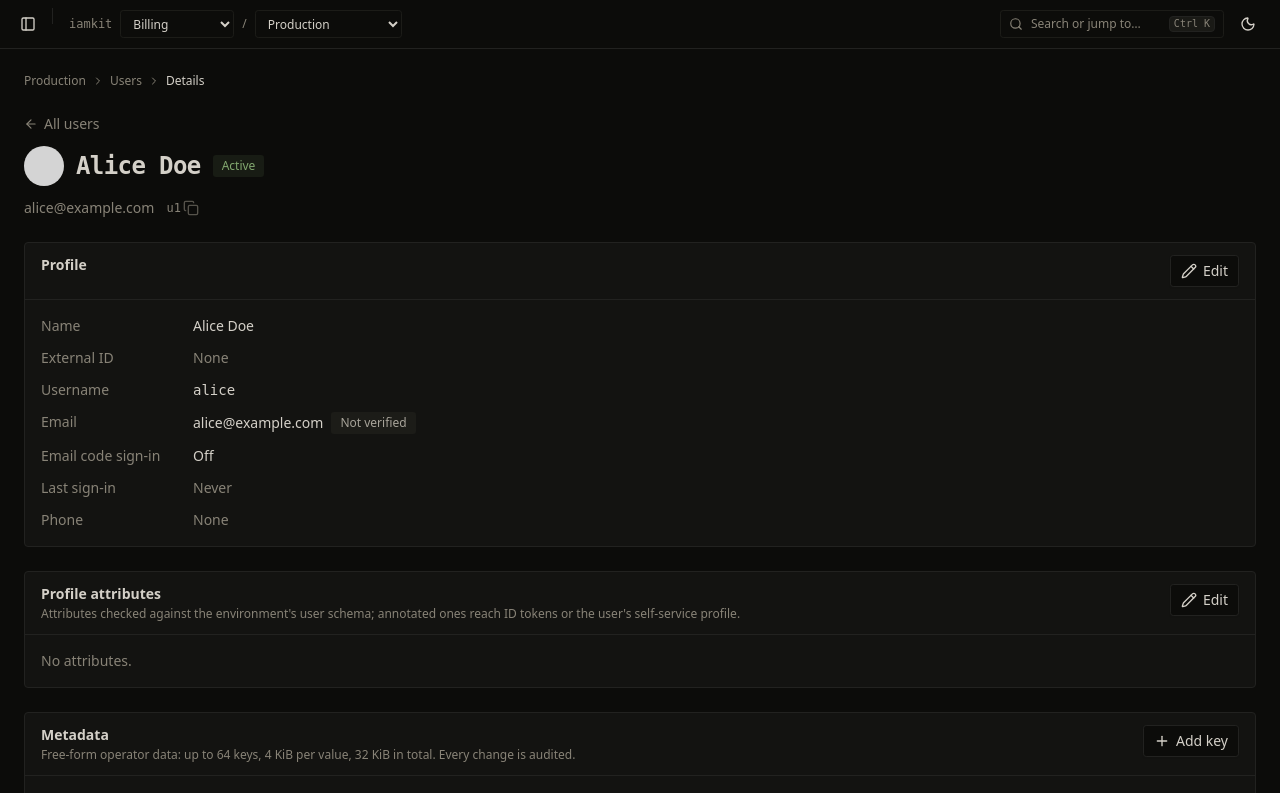
Test case: shows and edits the username
Expected: the heading "Alice Doe" is shown, top-left (76, 150), bottom-right (201, 182)
Expected: the text "alice" is shown, top-left (193, 382), bottom-right (235, 398)
Click the 1st button "Edit": (1204, 271) top-left (1170, 255), bottom-right (1239, 287)
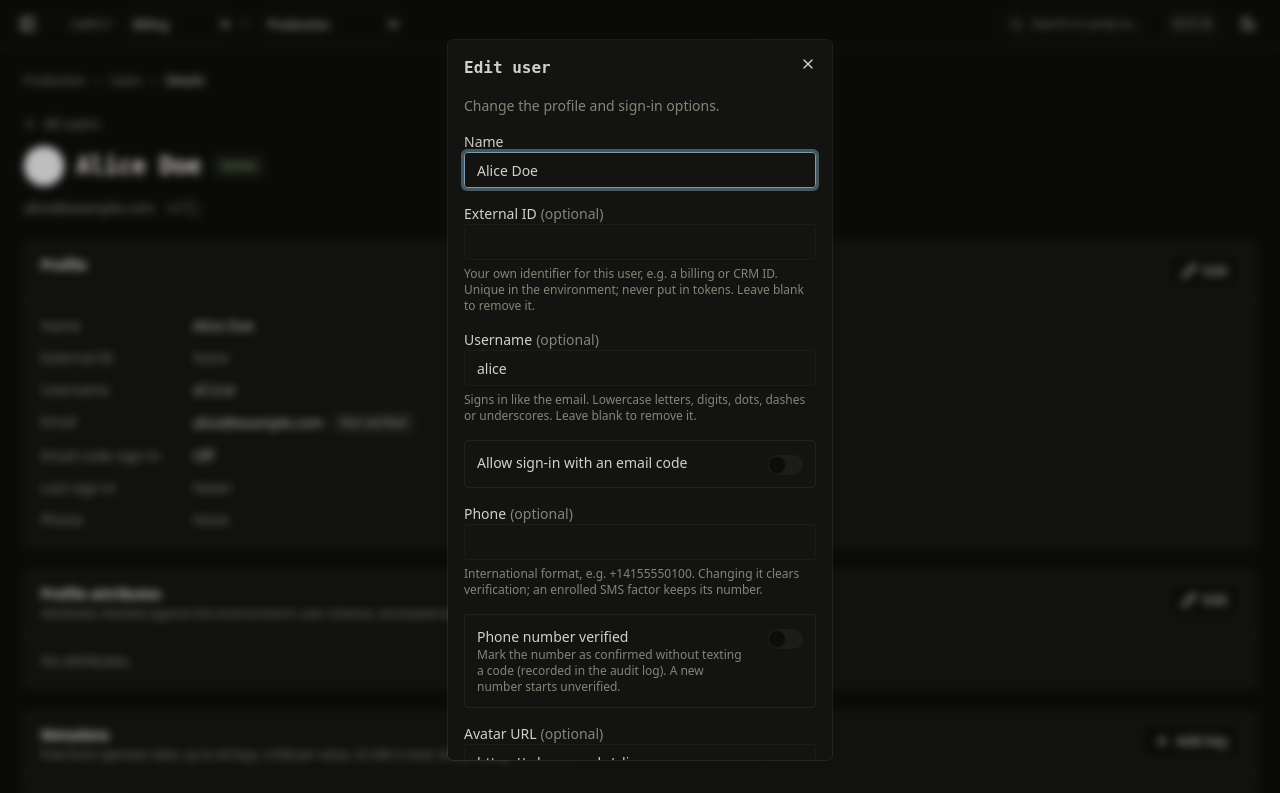
Replace the text in the field labelled "Username(optional)" with "alice.doe": (640, 368) top-left (464, 350), bottom-right (816, 386)
(page scrolled)
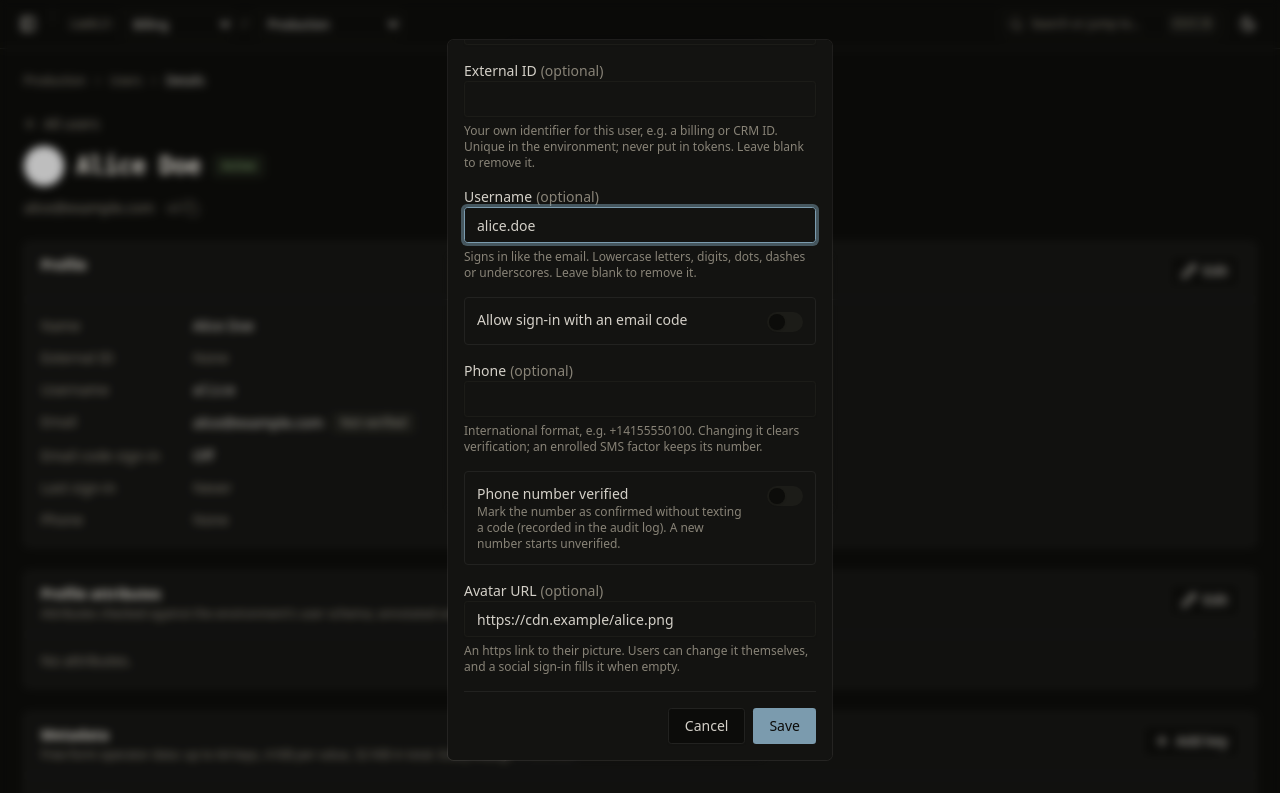
Click the button "Save": (785, 726) top-left (753, 708), bottom-right (816, 744)
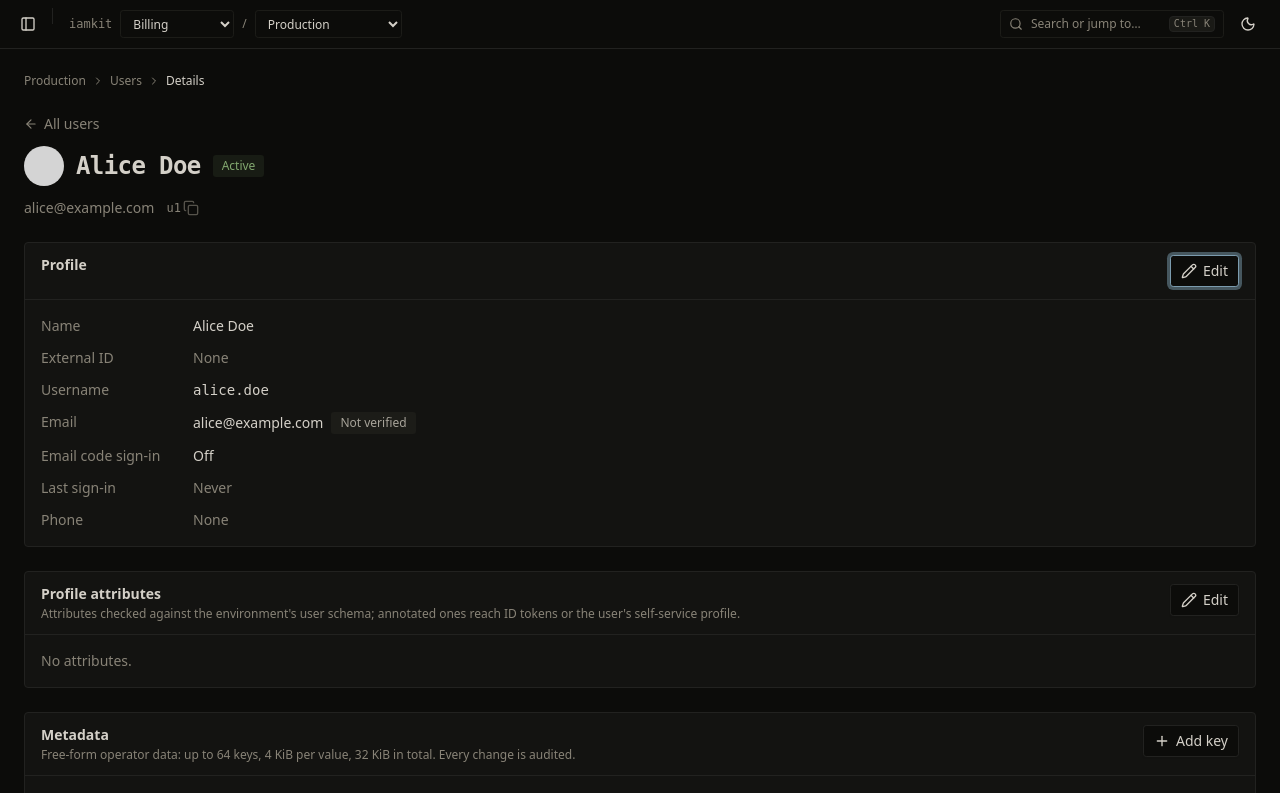
Now the text "alice" reads "alice.doe", box top-left (193, 382), bottom-right (269, 398)
